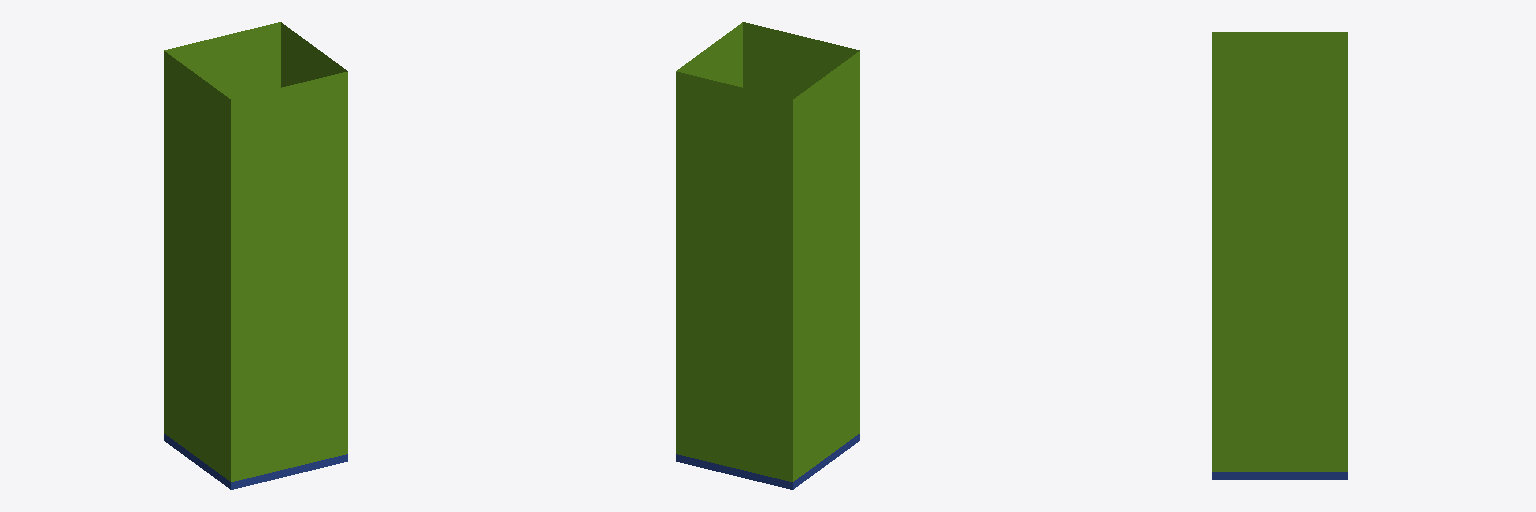
The model's file is Map_new3.obj.
3 views of the same model, side by side, from view 1: azimuth 30°, elevation 25°; view 2: azimuth 150°, elevation 25°; view 3: azimuth 270°, elevation 25° (orthographic).
Parts seen in each view (by area): view 1: Plane004, Plane002, Plane001, Plane003, Box001; view 2: Plane001, Plane002, Plane004, Plane003, Box001; view 3: Plane003, Plane002, Box001.
Boxes of the visible parts, <box> form: Plane004: <box>231,72,347,481</box>; Plane002: <box>164,51,230,481</box>; Plane001: <box>164,22,280,99</box>; Plane003: <box>281,22,347,87</box>; Box001: <box>164,434,347,489</box>; Plane001: <box>676,72,792,481</box>; Plane002: <box>793,51,859,481</box>; Plane004: <box>743,22,859,99</box>; Plane003: <box>676,22,742,87</box>; Box001: <box>676,434,859,489</box>; Plane003: <box>1212,89,1347,471</box>; Plane002: <box>1212,32,1347,88</box>; Box001: <box>1212,472,1347,479</box>.
Size of the model in its own units: 80 by 255 by 80.